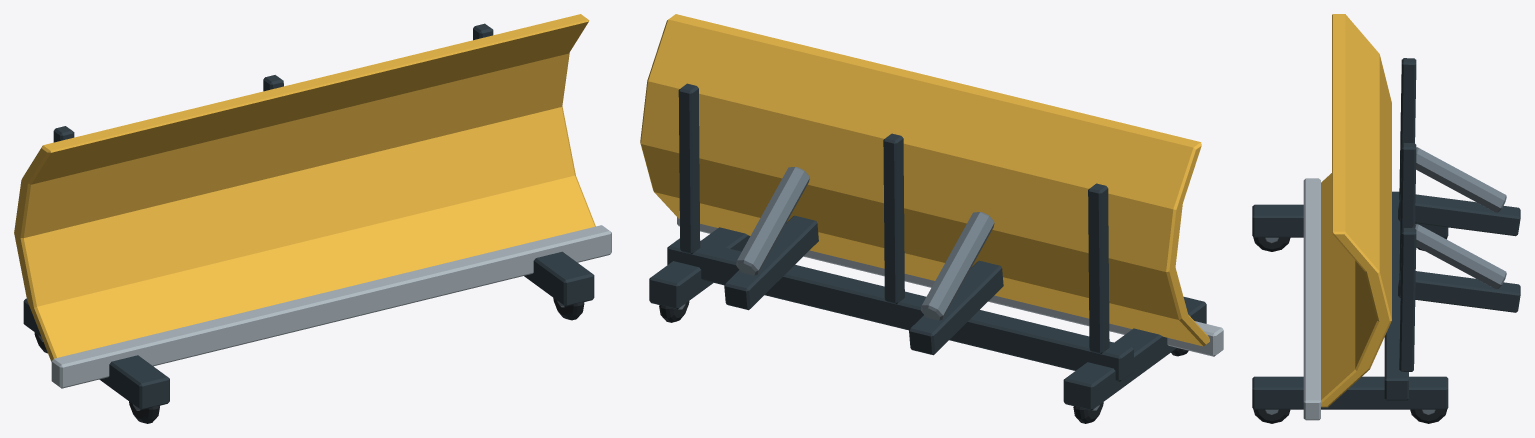
File: b20_snowplow_blade_storage_dolly.glb
3 views of the same model, side by side, from view 1: azimuth 30°, elevation 25°; view 2: azimuth 150°, elevation 25°; view 3: azimuth 270°, elevation 25° (orthographic). The views are drawn at different scales.
Parts seen in each view (by area): view 1: b20_snowplow_blade_storage_dolly; view 2: b20_snowplow_blade_storage_dolly; view 3: b20_snowplow_blade_storage_dolly.
Boxes of the visible parts, x1,y1,x2,y2 form: b20_snowplow_blade_storage_dolly: (14, 14, 611, 423); b20_snowplow_blade_storage_dolly: (640, 14, 1223, 423); b20_snowplow_blade_storage_dolly: (1252, 14, 1520, 423).
Size of the model in its own units: 2.16 by 0.965 by 1.1.
